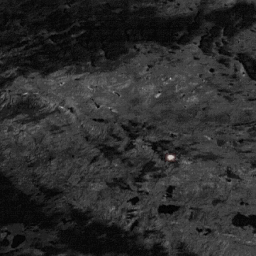Target: (166, 153, 175, 161)
